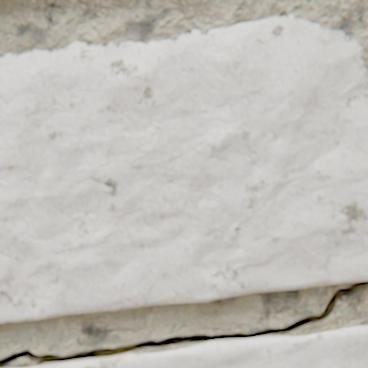brick: (0, 16, 367, 323), (25, 326, 367, 367)
crack: (0, 280, 367, 367)
